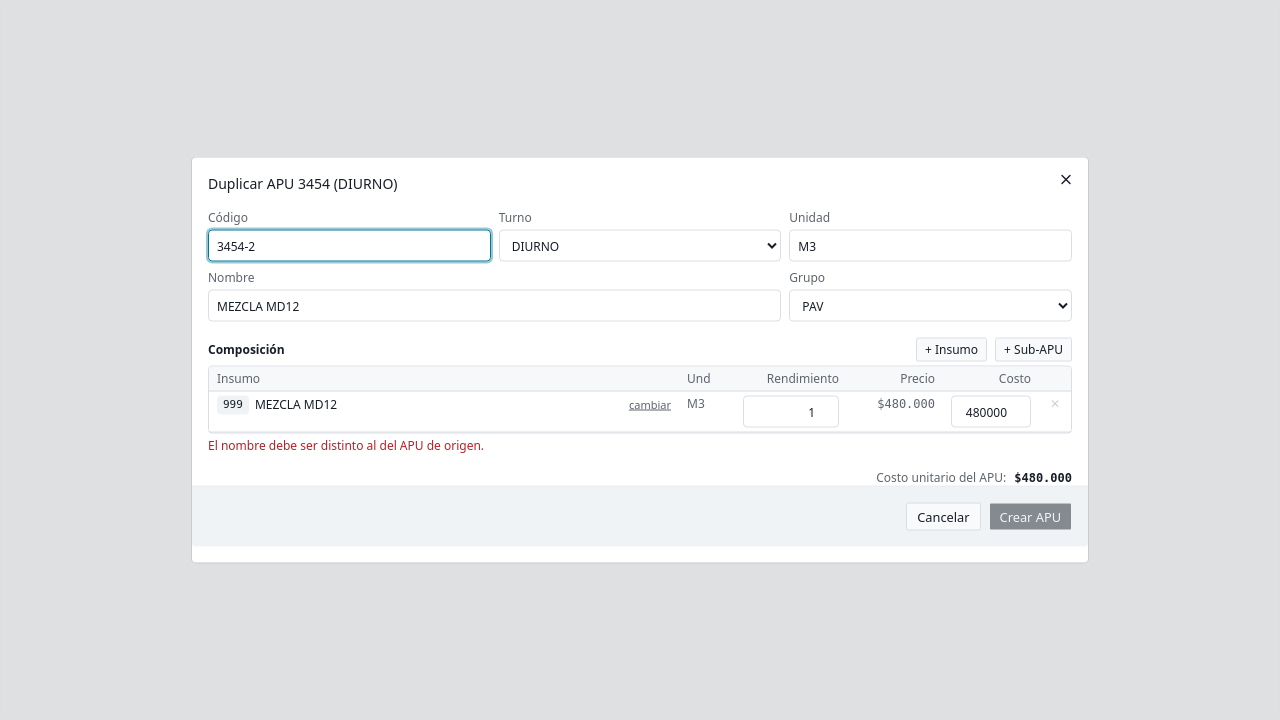
Test: modo duplicar bloquea el guardado mientras el nombre sea el del origen
expect the button "Crear APU" is disabled: met, box [989,502,1072,530]
expect the text "El nombre debe ser distinto al del APU de origen." is shown: met, box [208,436,484,454]
Replace the text in the field showing "MEZCLA MD12" with "MEZCLA MD13" at [495, 306], box [208,290,781,322]
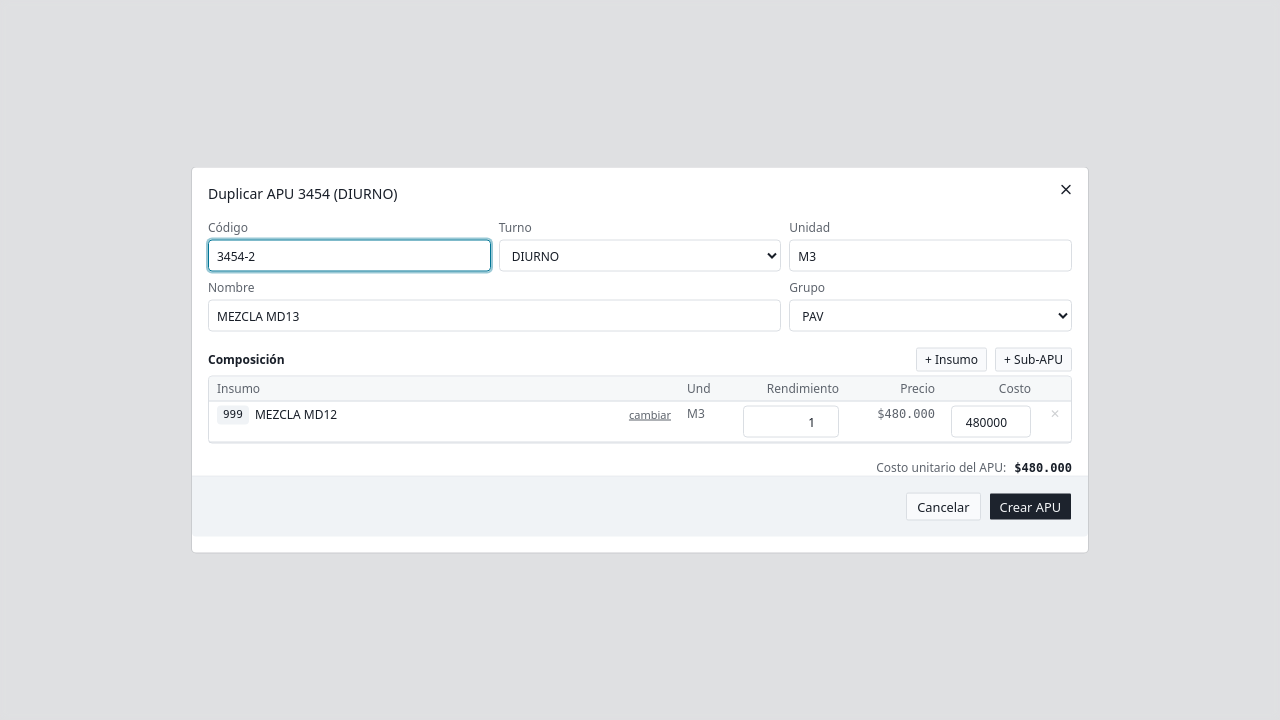
expect the button "Crear APU" is enabled: met, box [989,492,1072,520]
